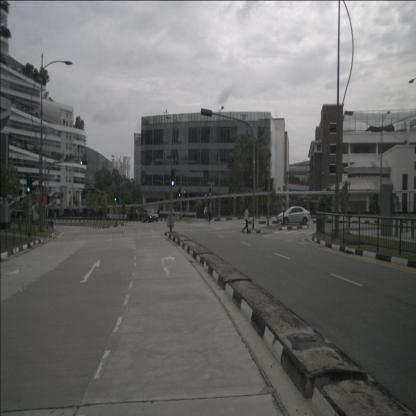human-pedestrian-adult: (242, 204, 249, 234), (208, 202, 212, 224), (204, 204, 208, 222)
vehicle-car: (276, 206, 311, 226), (141, 208, 159, 223)
